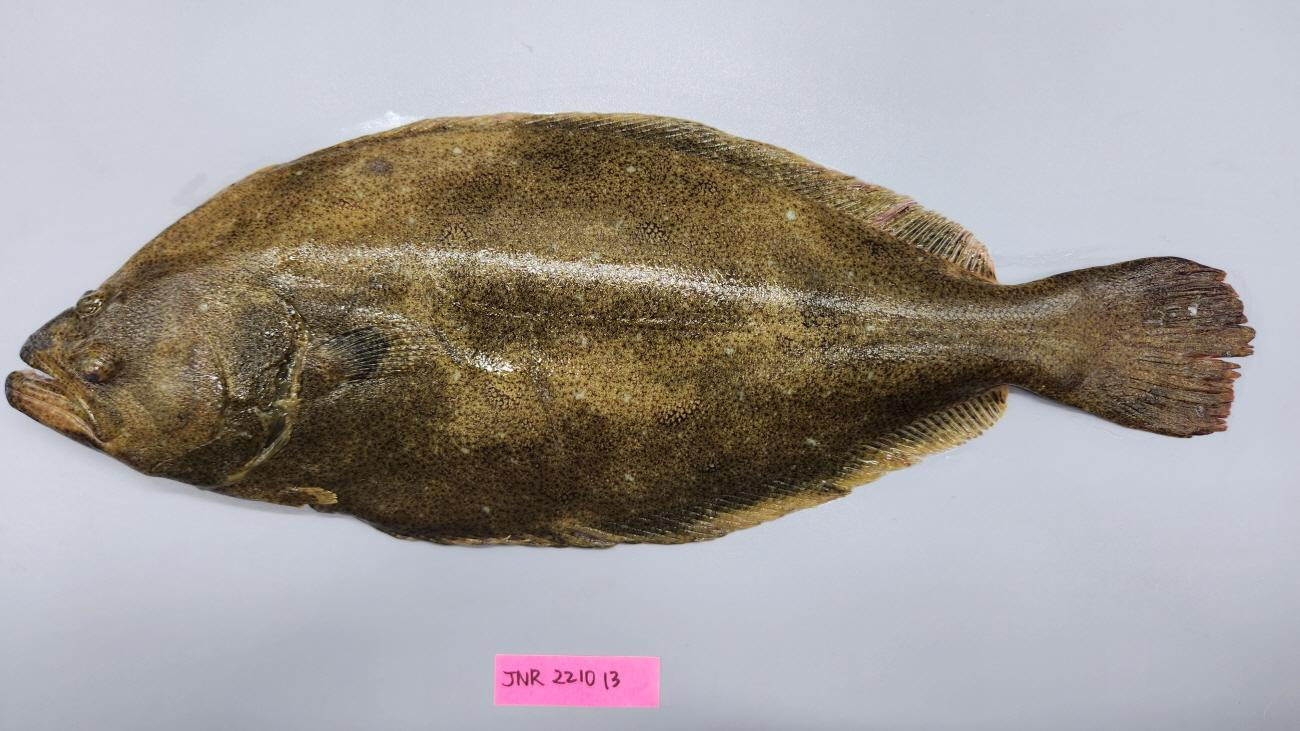POOUN: (5, 113, 1256, 550)
